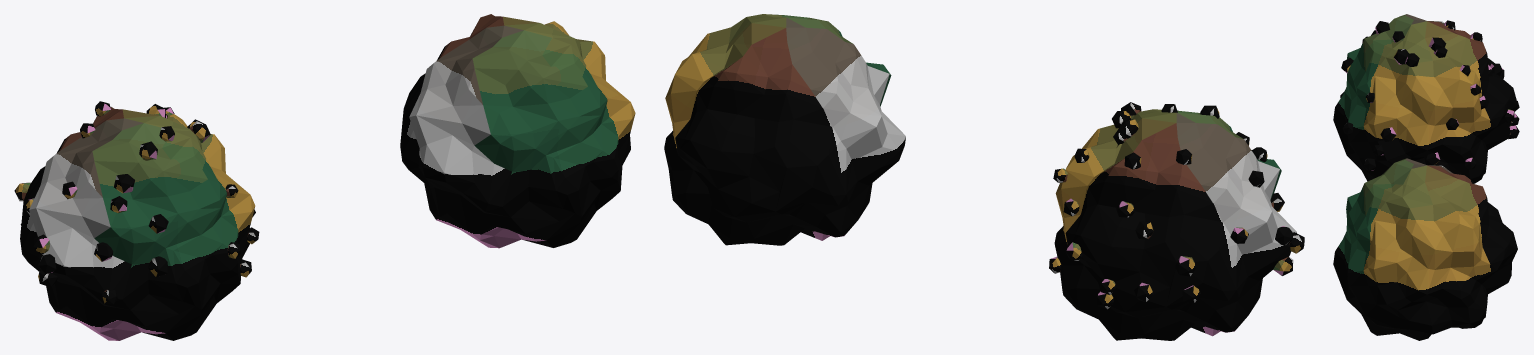
Rendered from Bushes.fbx.
3 renders of one model, left to right at view 1: azimuth 30°, elevation 25°; view 2: azimuth 150°, elevation 25°; view 3: azimuth 270°, elevation 25°, orthographic. The views are drawn at different scales.
Visible parts, largest first — view 1: Bush, Bush.001; view 2: Bush, Bush.001; view 3: Bush, Bush.001, BushFlower.011, BushFlower.041, BushFlower.032, BushFlower.047, BushFlower.036.
Boxes of the visible parts, left/top/right/bottom form: Bush: left=400, top=14, right=635, bottom=248; Bush.001: left=20, top=107, right=255, bottom=340; Bush: left=664, top=14, right=905, bottom=245; Bush.001: left=1054, top=109, right=1296, bottom=340; Bush: left=1333, top=158, right=1517, bottom=340; Bush.001: left=1333, top=14, right=1517, bottom=183; BushFlower.011: left=1393, top=49, right=1408, bottom=64; BushFlower.041: left=1380, top=127, right=1396, bottom=141; BushFlower.032: left=1429, top=37, right=1446, bottom=51; BushFlower.047: left=1424, top=152, right=1440, bottom=165; BushFlower.036: left=1405, top=53, right=1419, bottom=66.
Bounding box in the file's own units: 784 × 263 × 273.
